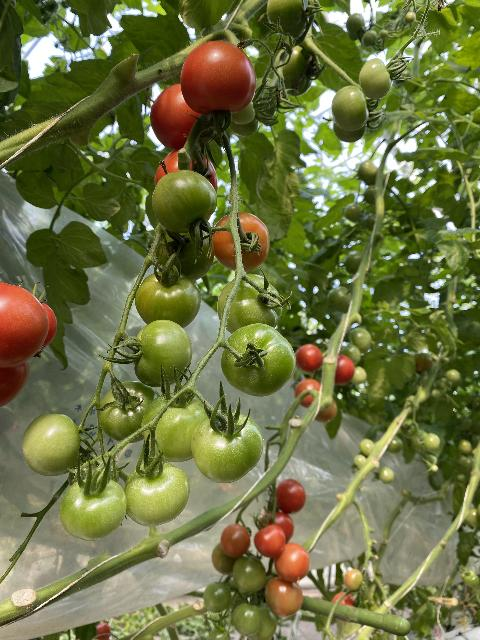l_fully_ripened: (181, 40, 257, 115), (0, 283, 49, 368), (149, 83, 210, 150), (154, 147, 218, 194), (0, 361, 29, 407), (258, 511, 295, 543), (254, 524, 286, 557), (276, 479, 306, 513), (295, 343, 323, 372), (335, 354, 354, 385)
l_green: (221, 323, 295, 398), (190, 412, 264, 483), (141, 393, 212, 462), (124, 459, 190, 528), (59, 478, 127, 542), (152, 169, 218, 233), (133, 318, 193, 387), (98, 380, 161, 444), (217, 274, 283, 334), (135, 271, 202, 329), (22, 413, 80, 477), (155, 228, 214, 282), (332, 84, 369, 131), (280, 46, 314, 96), (267, 0, 311, 37), (359, 58, 393, 100), (232, 556, 267, 592), (232, 603, 264, 637), (211, 543, 240, 576), (227, 109, 260, 136), (204, 580, 231, 613), (333, 122, 368, 143), (227, 100, 256, 125)
l_half_ripened: (210, 211, 270, 272), (265, 575, 304, 617), (274, 543, 310, 582), (221, 524, 252, 557), (313, 398, 337, 423)
